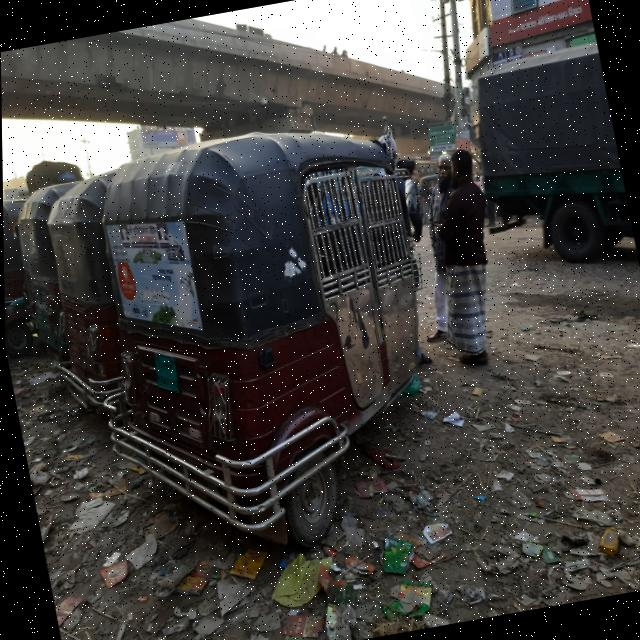cng: (72, 88, 479, 596)
